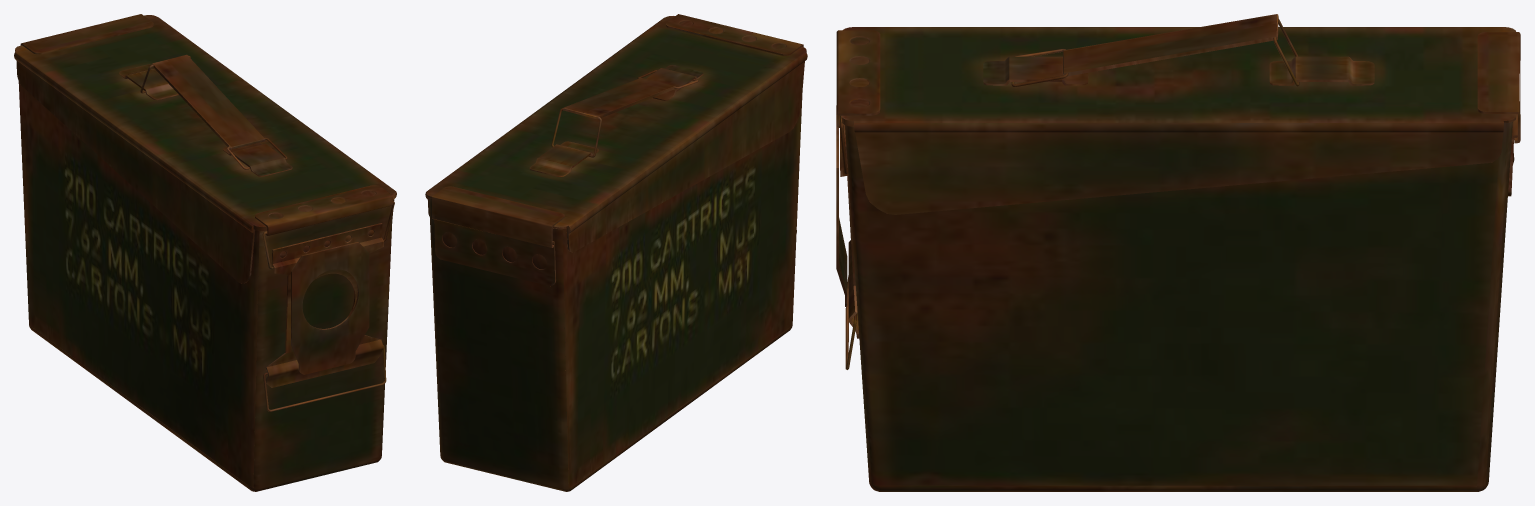
The model's file is ammo_box.glb.
The picture shows the model from 3 angles, left to right: view 1: azimuth 30°, elevation 25°; view 2: azimuth 150°, elevation 25°; view 3: azimuth 270°, elevation 25°; orthographic projection. The views are drawn at different scales.
Visible parts, largest first — view 1: ammo_box, ammo_box_handle, ammo_box_latch; view 2: ammo_box, ammo_box_handle; view 3: ammo_box, ammo_box_handle.
Part boxes in pixels (box(x1,y1,x2,y2)): ammo_box: box(14, 14, 396, 491); ammo_box_handle: box(152, 54, 265, 149); ammo_box_latch: box(263, 345, 386, 411); ammo_box: box(425, 14, 807, 491); ammo_box_handle: box(563, 78, 675, 119); ammo_box: box(836, 27, 1520, 491); ammo_box_handle: box(1063, 14, 1278, 76).
Size of the model in its own units: 0.0866 by 0.1775 by 0.2579.
Materials: 1 (1 with a texture image).
